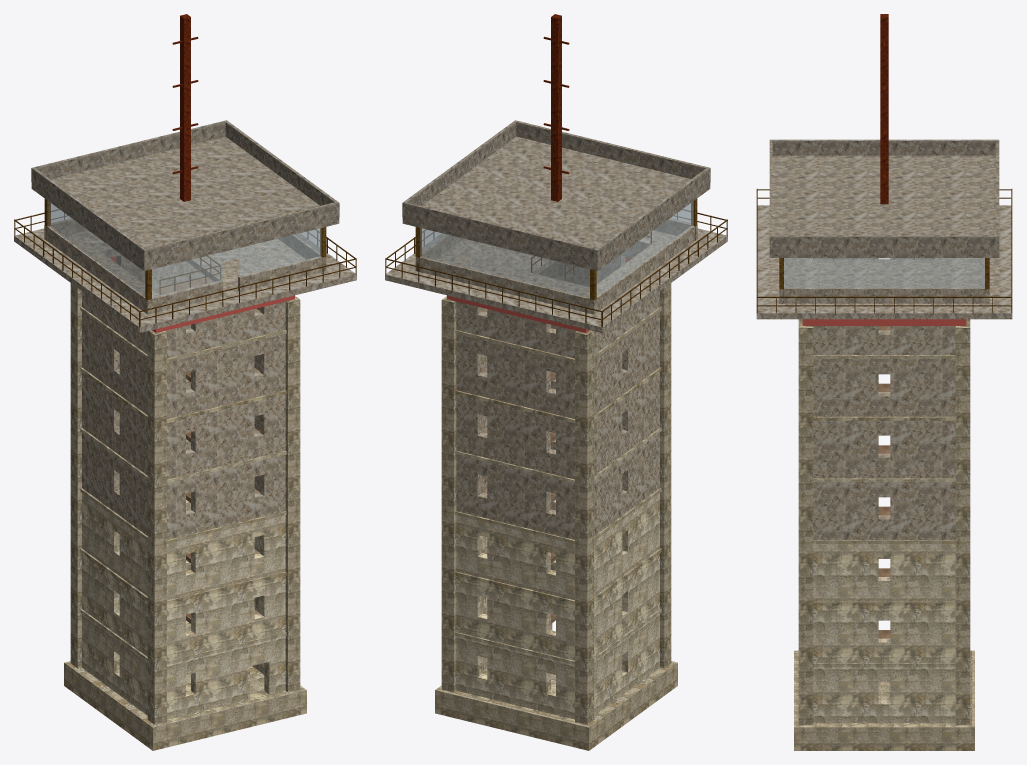
File: bw-tower.glass-v1.lod1.glb
3 renders of one model, left to right at view 1: azimuth 30°, elevation 25°; view 2: azimuth 150°, elevation 25°; view 3: azimuth 270°, elevation 25°, orthographic.
Parts seen in each view (by area): view 1: bw-tower; view 2: bw-tower; view 3: bw-tower.
Part boxes in pixels (x1,y1,x2,y2): bw-tower: (14, 14, 356, 750); bw-tower: (385, 14, 727, 750); bw-tower: (756, 14, 1012, 750).
Bounding box in the file's own units: 15.83 × 47.5 × 15.83.
6 materials, 4 textured.
